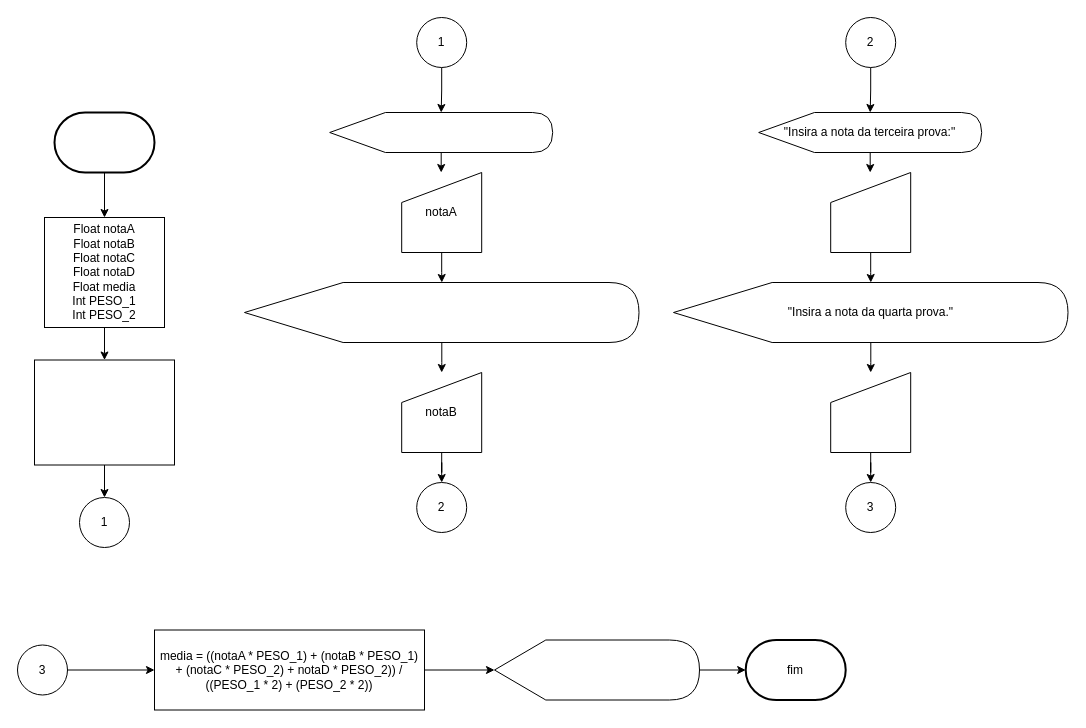
This 1086x728 diagram has some shape labels left out. Here are the shapes that lost their labels. From the top down, the centre of each, then its label:
point 104,142: Inicio
point 441,132: "Insira a nota da primeira prova:"
point 870,212: notaC
point 441,312: "Insira a nota da segunda prova."
point 104,412: notaA = 0 notaB = 0 notaC = 0 notaD = 0 PESO_1 = 2 Float PESO_2 = 3 media = 0
point 870,412: notaD
point 597,669: "A sua media é" + media
